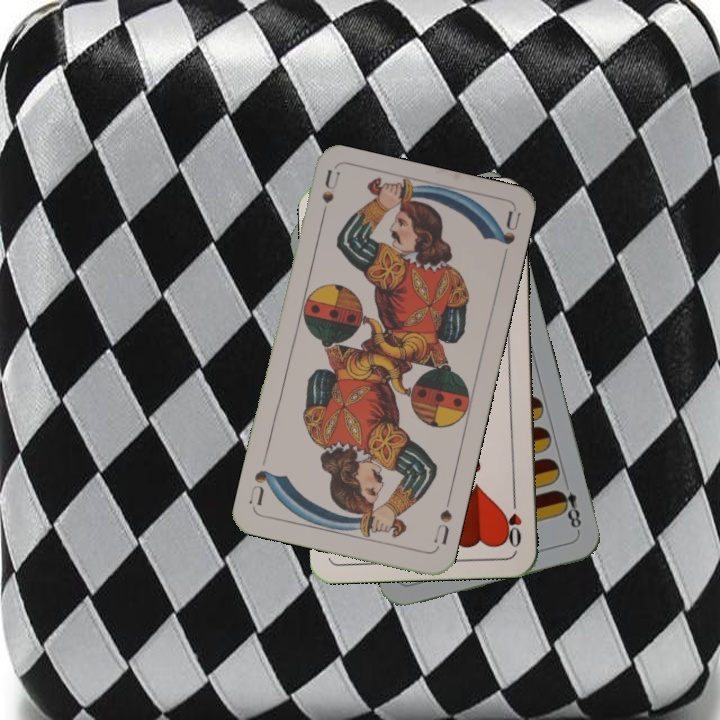E8: (554, 486, 584, 535)
HO: (501, 492, 524, 550)
SU: (316, 167, 342, 227), (429, 493, 455, 547)
